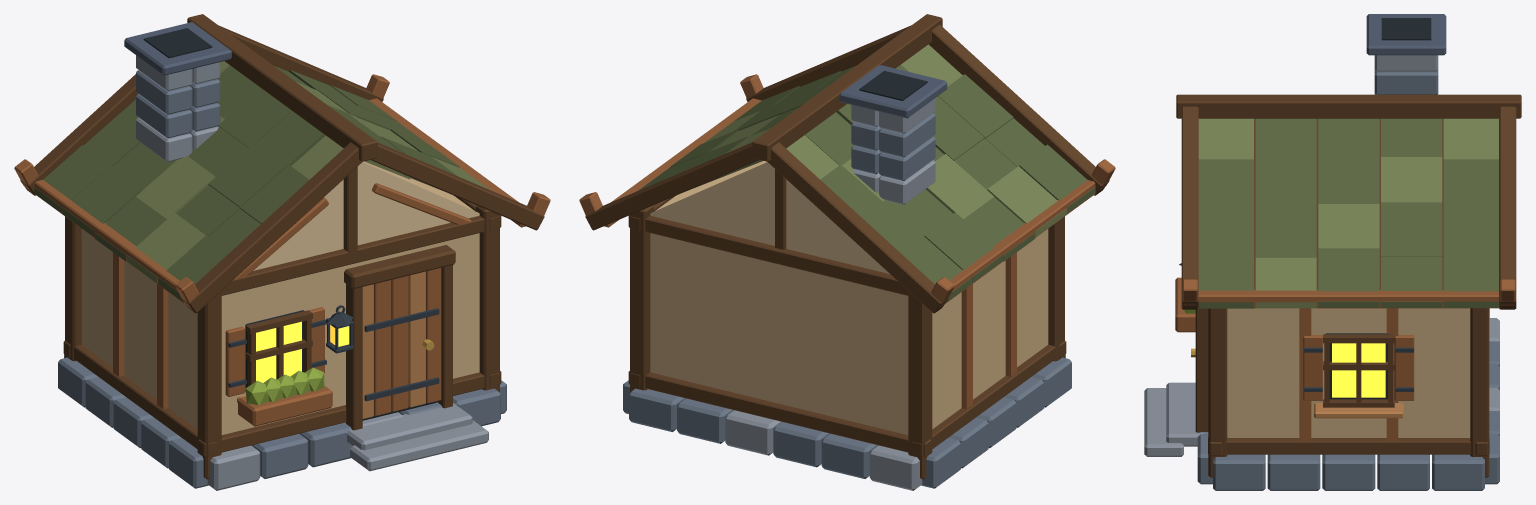
The model's file is HouseGreen.glb.
The picture shows the model from 3 angles, left to right: view 1: azimuth 30°, elevation 25°; view 2: azimuth 150°, elevation 25°; view 3: azimuth 270°, elevation 25°; orthographic projection.
Parts seen in each view (by area): view 1: Solid plaster shell, Plaster gable, Bargeboard, Ridge cap, Facade horizontal timber.002, Massive corner timber, Bargeboard.002, Massive corner timber.002, Facade horizontal timber, Doorstep.001, Doorstep, Overlapping roof tile.006 (+58 smaller); view 2: Solid plaster shell, Plaster gable.001, Bargeboard.001, Ridge cap, Facade horizontal timber.001, Facade horizontal timber.003, Bargeboard, Massive corner timber.001, Bargeboard.003, Massive corner timber.003, Side horizontal timber, Chimney cap (+42 smaller); view 3: Solid plaster shell, Ridge cap, Side horizontal timber.001, Eave fascia.001, Overlapping roof tile.031, Overlapping roof tile.033, Bargeboard.002, Bargeboard.003, Overlapping roof tile.037, Overlapping roof tile.027, Massive corner timber.002, Massive corner timber.003 (+42 smaller).
Part boxes in pixels (box(x1,y1,x2,y2)): Solid plaster shell: box(81, 161, 479, 434); Plaster gable: box(253, 162, 479, 270); Bargeboard: box(181, 142, 361, 313); Ridge cap: box(187, 14, 377, 161); Facade horizontal timber.002: box(221, 215, 501, 295); Massive corner timber: box(197, 291, 221, 479); Bargeboard.002: box(371, 142, 544, 230); Massive corner timber.002: box(476, 205, 499, 392); Facade horizontal timber: box(198, 371, 501, 456); Doorstep.001: box(350, 420, 488, 471); Doorstep: box(347, 403, 472, 450); Overlapping roof tile.006: box(208, 141, 288, 208); Solid plaster shell: box(650, 161, 1048, 434); Plaster gable.001: box(650, 162, 889, 273); Bargeboard.001: box(768, 142, 948, 313); Ridge cap: box(752, 14, 942, 161); Facade horizontal timber.001: box(628, 371, 931, 456); Facade horizontal timber.003: box(628, 215, 908, 295); Bargeboard: box(928, 24, 1109, 195); Massive corner timber.001: box(908, 291, 932, 479); Bargeboard.003: box(585, 142, 758, 230); Massive corner timber.003: box(630, 205, 653, 392); Side horizontal timber: box(912, 344, 1055, 456); Chimney cap: box(839, 64, 947, 118); Solid plaster shell: box(1227, 308, 1470, 437); Ridge cap: box(1176, 94, 1521, 118); Side horizontal timber.001: box(1208, 438, 1489, 454); Eave fascia.001: box(1198, 290, 1498, 308); Overlapping roof tile.031: box(1255, 202, 1316, 257); Overlapping roof tile.033: box(1381, 202, 1442, 256); Bargeboard.002: box(1181, 106, 1198, 309); Bargeboard.003: box(1499, 106, 1516, 309); Overlapping roof tile.037: box(1318, 248, 1379, 307); Overlapping roof tile.027: box(1318, 157, 1379, 203); Massive corner timber.002: box(1208, 308, 1227, 477); Massive corner timber.003: box(1470, 308, 1489, 477).
Bounding box in the file's own units: 10.61 × 9.78 × 9.5.
